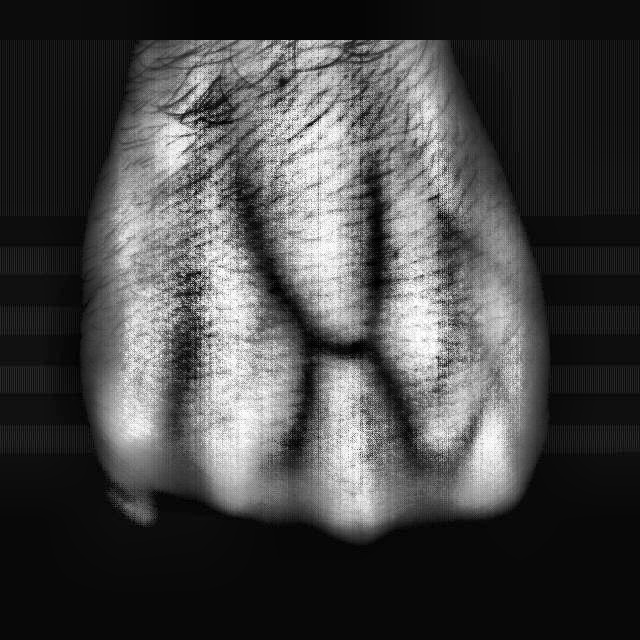Vein: (224, 167, 317, 339), (361, 155, 387, 321)
